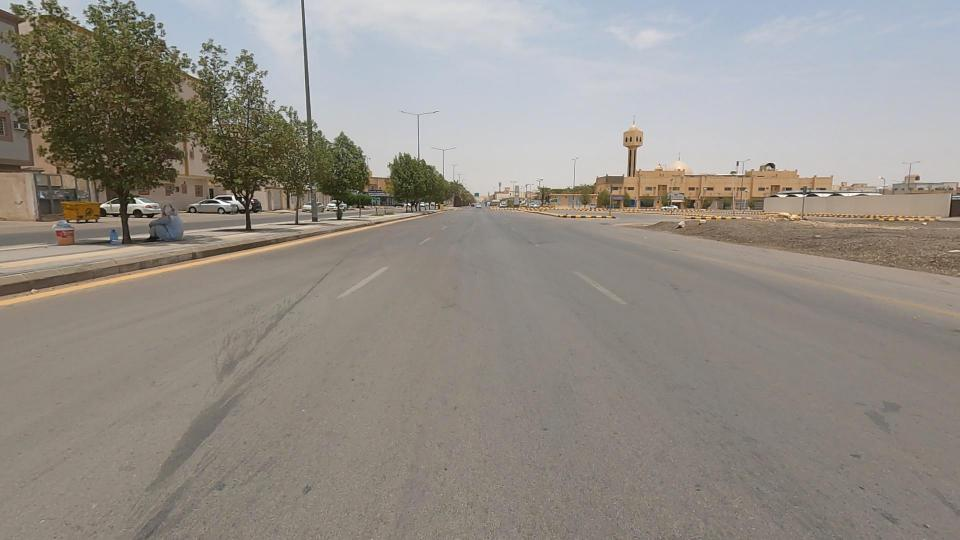GARBAGE: (660, 195, 703, 257)
